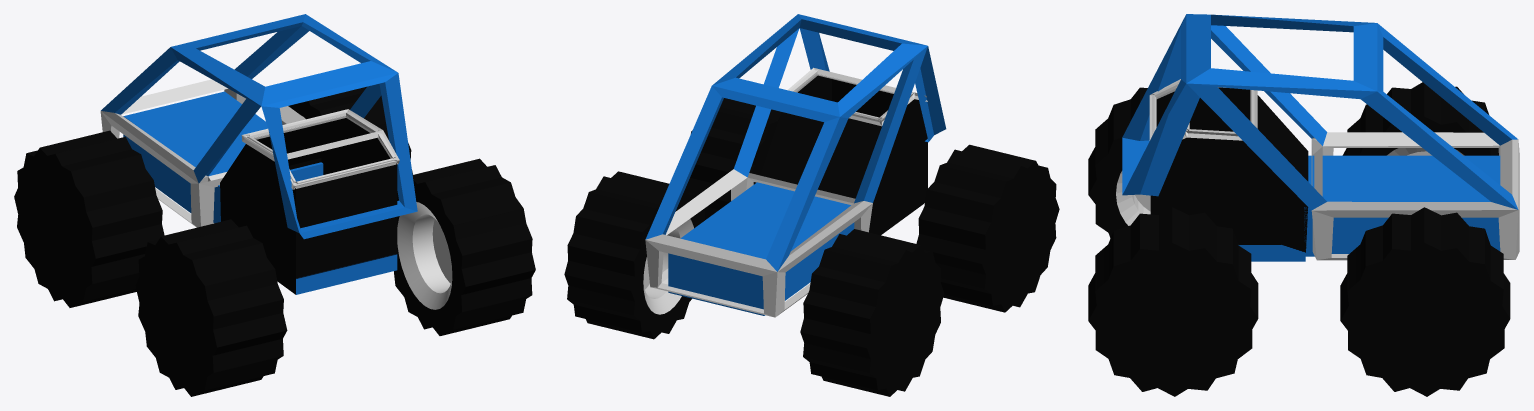
File: BlueCar2.fbx
3 views of the same model, side by side, from view 1: azimuth 30°, elevation 25°; view 2: azimuth 150°, elevation 25°; view 3: azimuth 270°, elevation 25° (orthographic). The views are drawn at different scales.
Visible parts, largest first — view 1: Cube.002, WheelFrontRight, WheelRearRight, Cube.003, WheelFrontLeft, Cube.004, Cube.005, WheelRearLeft; view 2: Cube.002, WheelRearRight, WheelFrontRight, WheelRearLeft, Cube.003, Cube.004, WheelFrontLeft, Cube.005; view 3: Cube.002, WheelFrontLeft, WheelRearLeft, Cube.003, Cube.004, WheelFrontRight, WheelRearRight, Cube.005.
Part boxes in pixels (x1,y1,x2,y2): Cube.002: [100, 14, 417, 239]; WheelFrontRight: [135, 219, 287, 396]; WheelRearRight: [14, 130, 164, 307]; Cube.003: [220, 118, 397, 294]; WheelFrontLeft: [394, 158, 535, 335]; Cube.004: [123, 91, 323, 223]; Cube.005: [241, 109, 399, 189]; WheelRearLeft: [281, 86, 412, 174]; Cube.002: [645, 14, 946, 317]; WheelRearRight: [800, 229, 944, 396]; WheelFrontRight: [916, 144, 1059, 312]; WheelRearLeft: [564, 171, 705, 339]; Cube.003: [760, 75, 927, 235]; Cube.004: [668, 182, 854, 315]; WheelFrontLeft: [685, 98, 781, 219]; Cube.005: [787, 67, 927, 126]; Cube.002: [1122, 14, 1519, 260]; WheelFrontLeft: [1088, 207, 1258, 396]; WheelRearLeft: [1340, 207, 1510, 396]; Cube.003: [1150, 87, 1308, 261]; Cube.004: [1304, 155, 1500, 256]; WheelFrontRight: [1088, 87, 1150, 238]; WheelRearRight: [1342, 82, 1498, 155]; Cube.005: [1149, 79, 1257, 140].
Bounding box in the file's own units: 732 × 825 × 581.
Materials: 1 (1 with a texture image).
